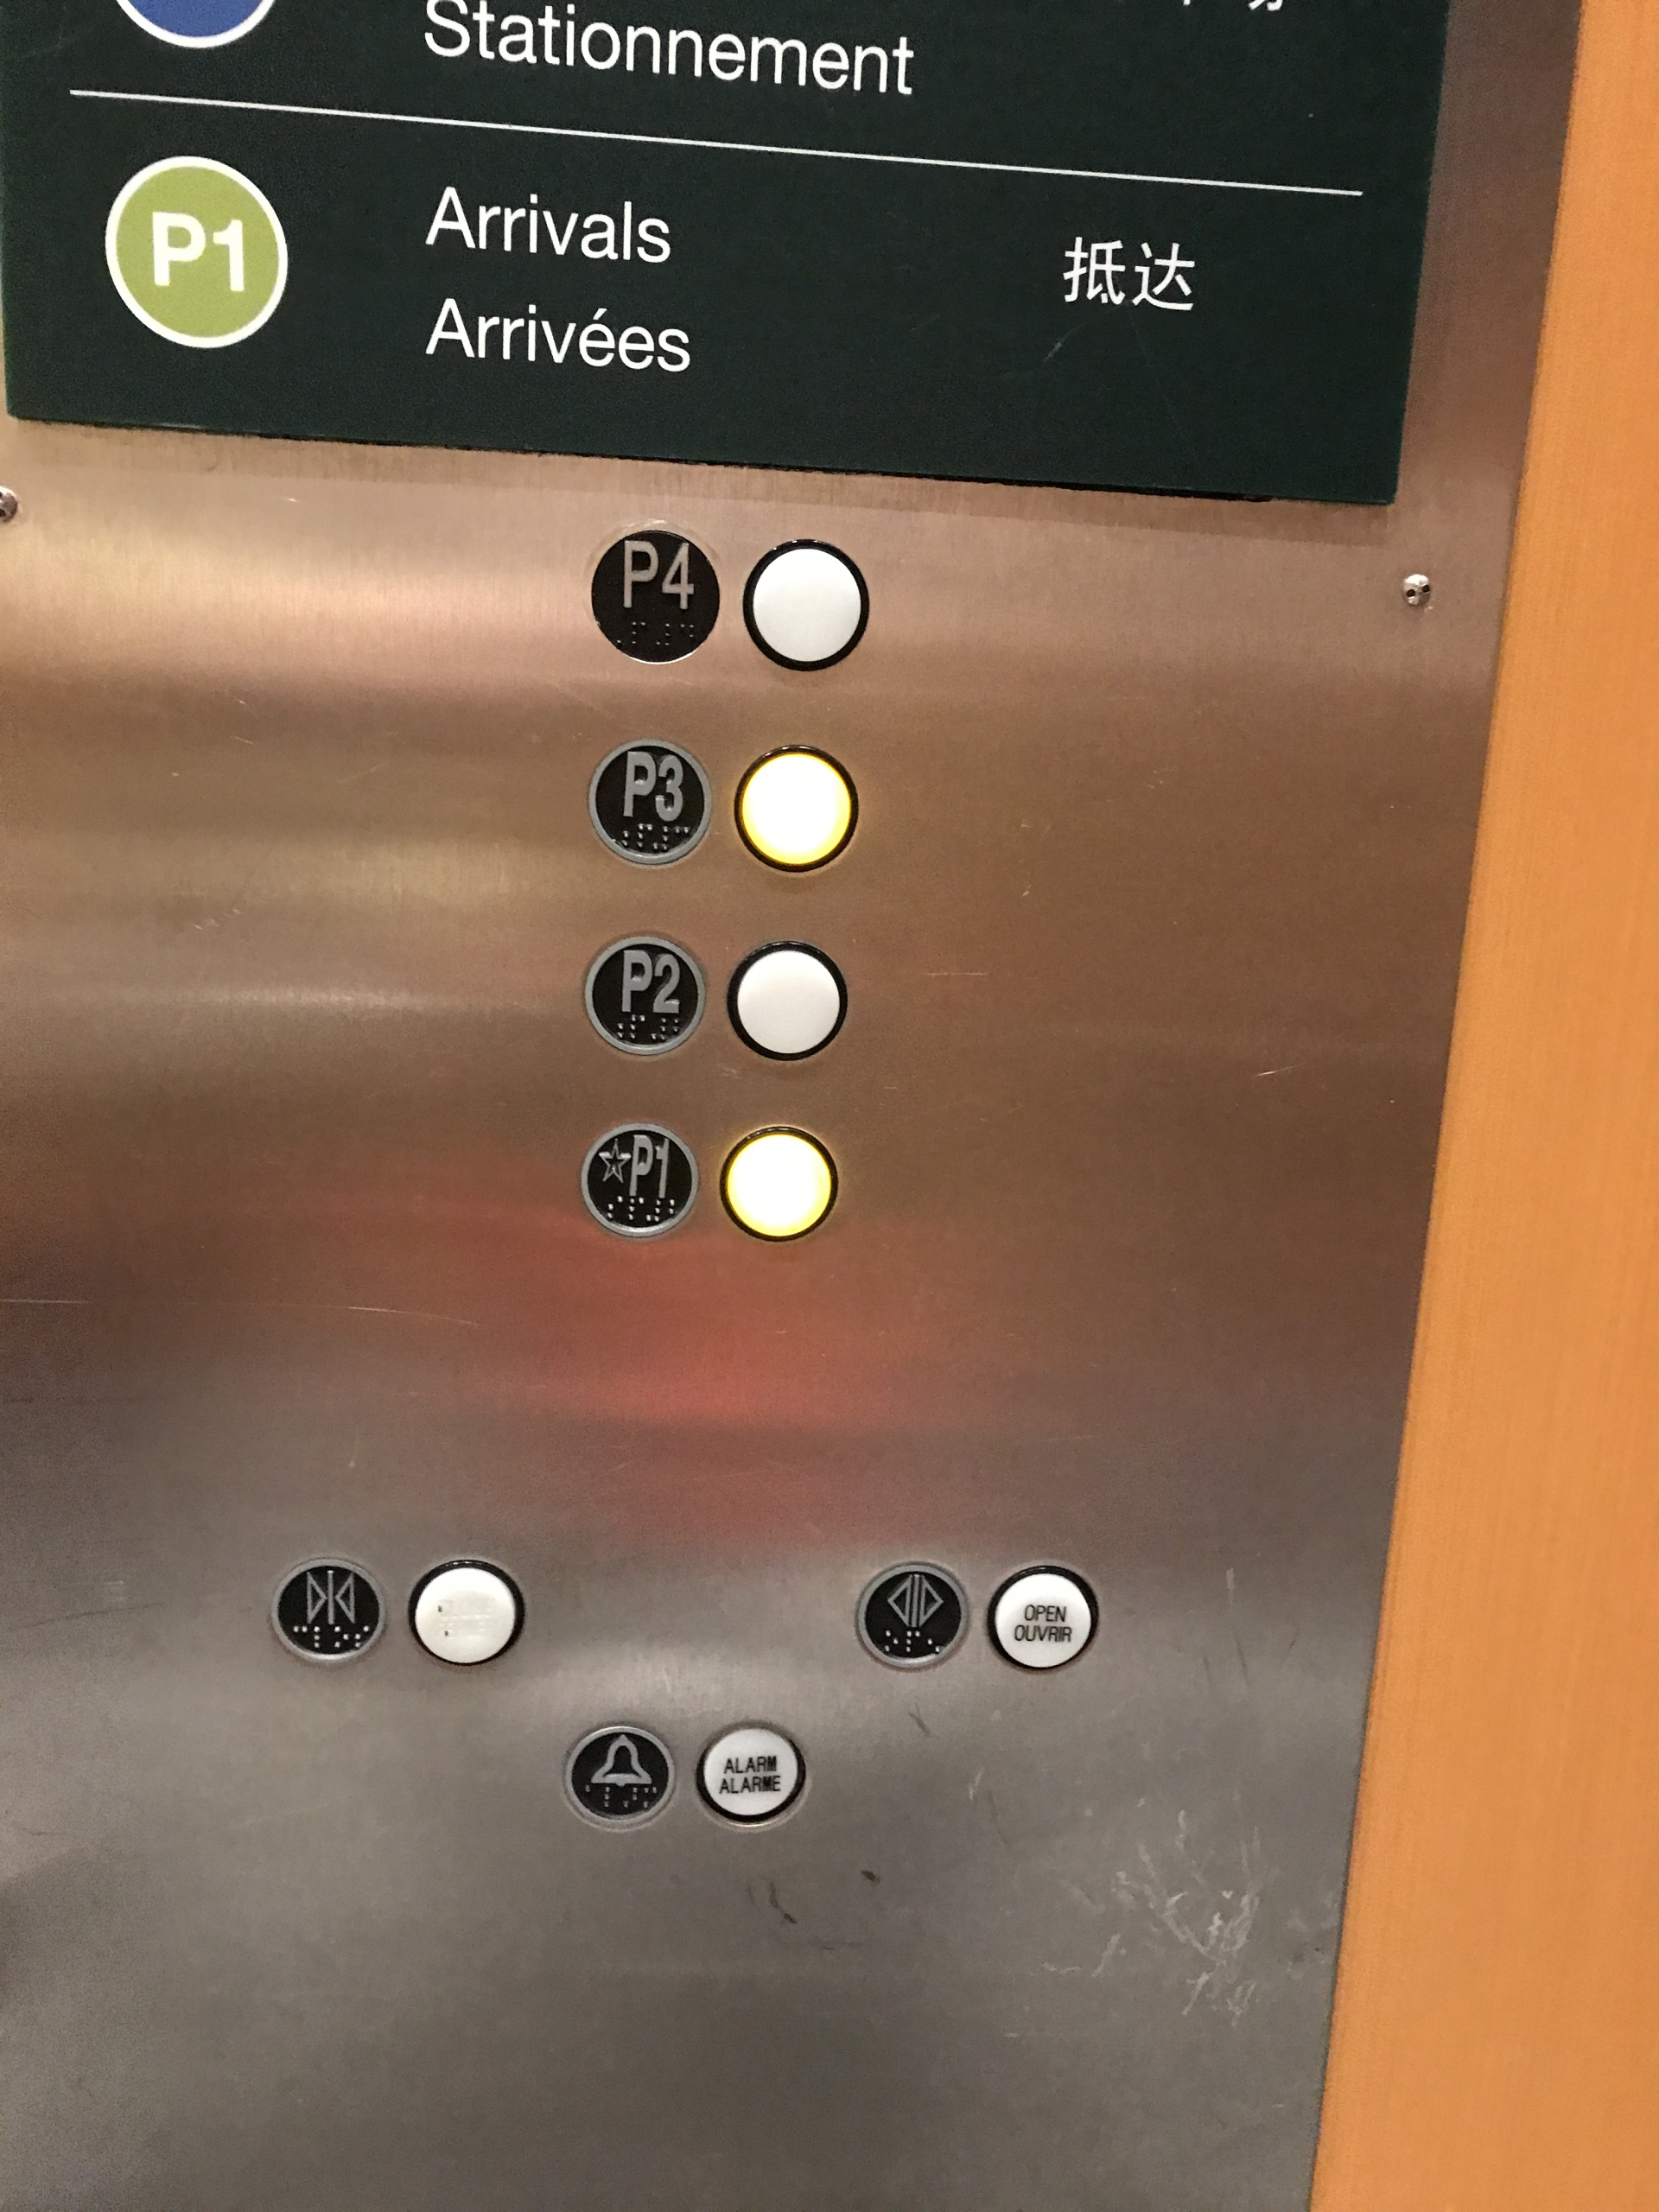P2: (579, 930, 709, 1062)
P3: (586, 737, 716, 871)
P4: (584, 523, 727, 671)
alarm: (556, 1717, 678, 1827)
close: (263, 1557, 392, 1670)
empty: (739, 531, 873, 674), (730, 738, 863, 878), (721, 935, 852, 1066), (714, 1116, 843, 1244)
open: (845, 1557, 974, 1670)
sP1: (577, 1120, 702, 1244)
text_blur: (403, 1554, 532, 1670), (690, 1714, 809, 1827)
text_open door: (979, 1559, 1100, 1676)
